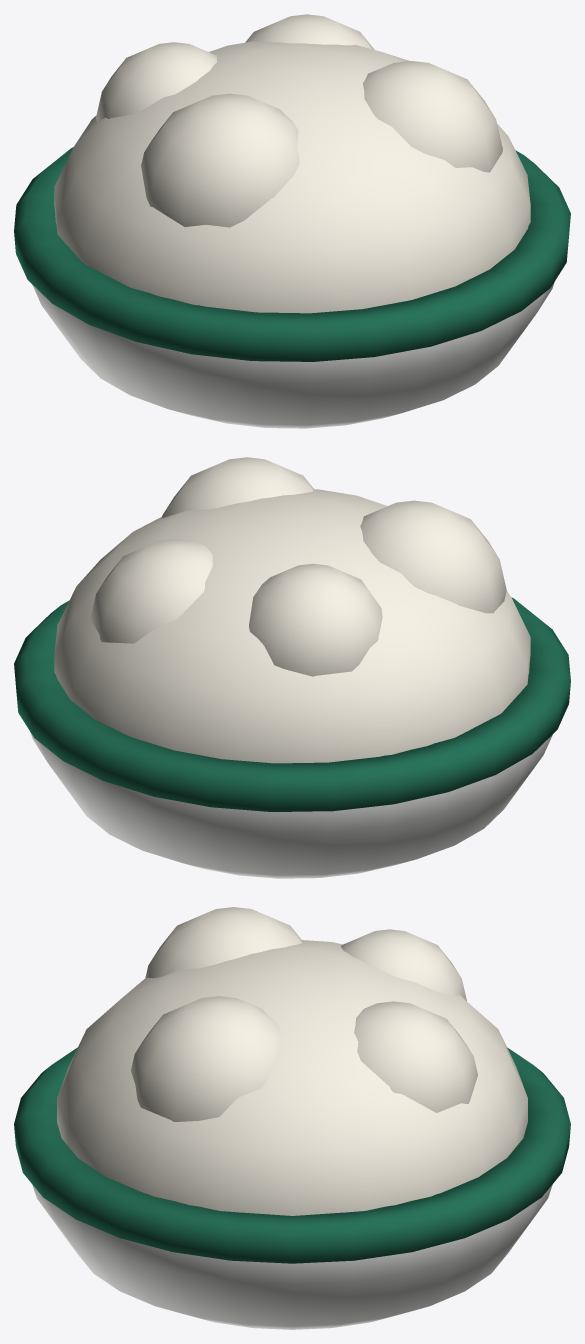
Rendered from cooked-rice.glb.
3 views of the same model, one above another, from view 1: azimuth 30°, elevation 25°; view 2: azimuth 150°, elevation 25°; view 3: azimuth 270°, elevation 25° (orthographic).
Parts seen in each view (by area): view 1: cooked-rice; view 2: cooked-rice; view 3: cooked-rice.
Boxes of the visible parts, x1=… form: cooked-rice: x1=14, y1=14, x2=570, y2=428; cooked-rice: x1=14, y1=457, x2=570, y2=878; cooked-rice: x1=14, y1=907, x2=570, y2=1329.
Size of the model in its own units: 0.578 by 0.3522 by 0.578.
